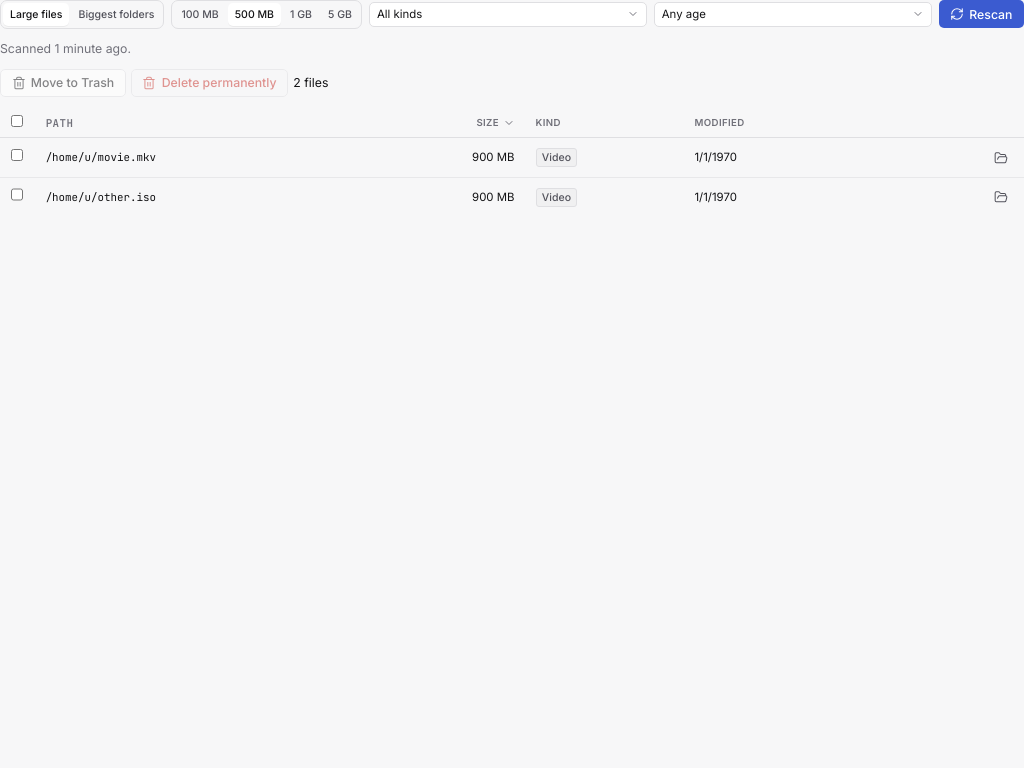
Test: after a clean › a trimming tab saves its results without the removed files, with the same scan time
This screenshot has width=1024, height=768.
Click the checkbox named "Select /home/u/movie.mkv" at (17, 155), box [10,149,23,161]
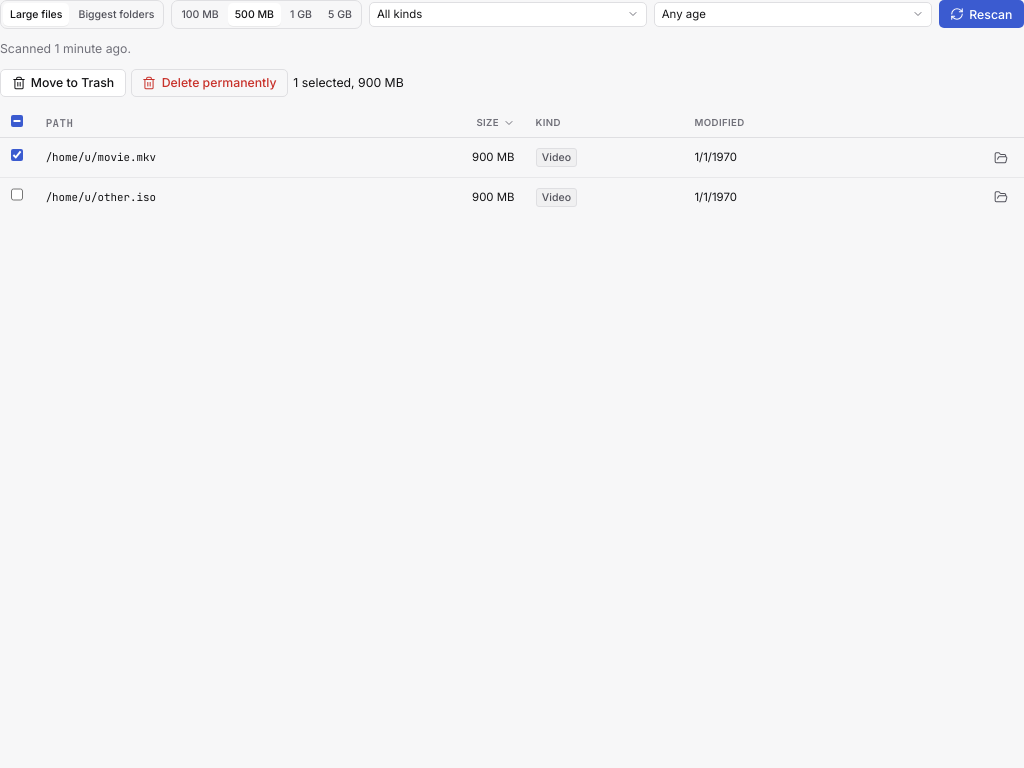
Result: the button "Move to Trash" is enabled
Click the button "Move to Trash" at (63, 83), box [0,69,126,97]
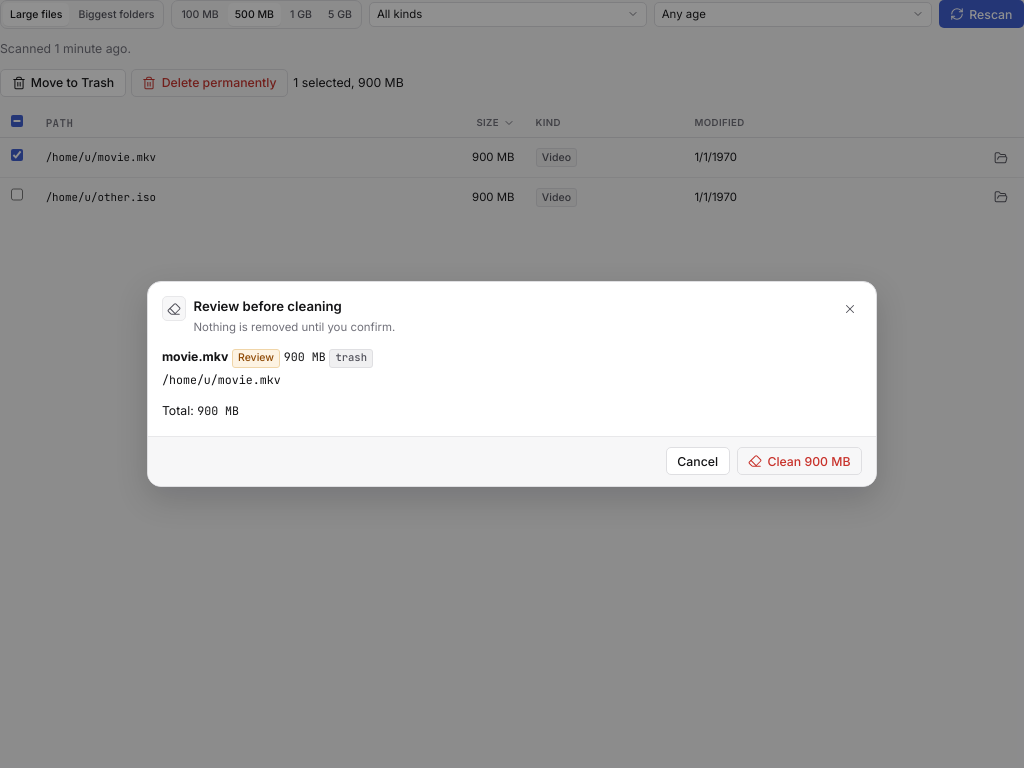
Result: the button "Clean 900 MB" is enabled
Click the button "Clean 900 MB" at (799, 461), box [737,447,862,475]
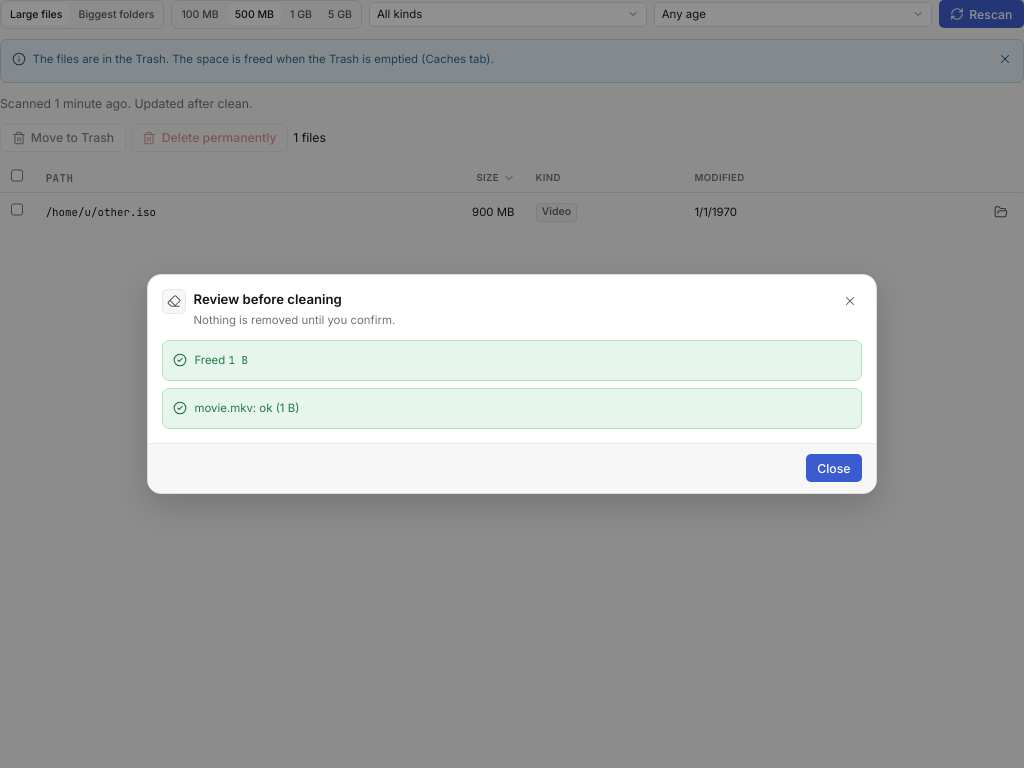
Result: the text "/home/u/movie.mkv" is gone
Result: the text "Scanned 1 minute ago. Updated after clean." is shown at [0,96,252,111]
